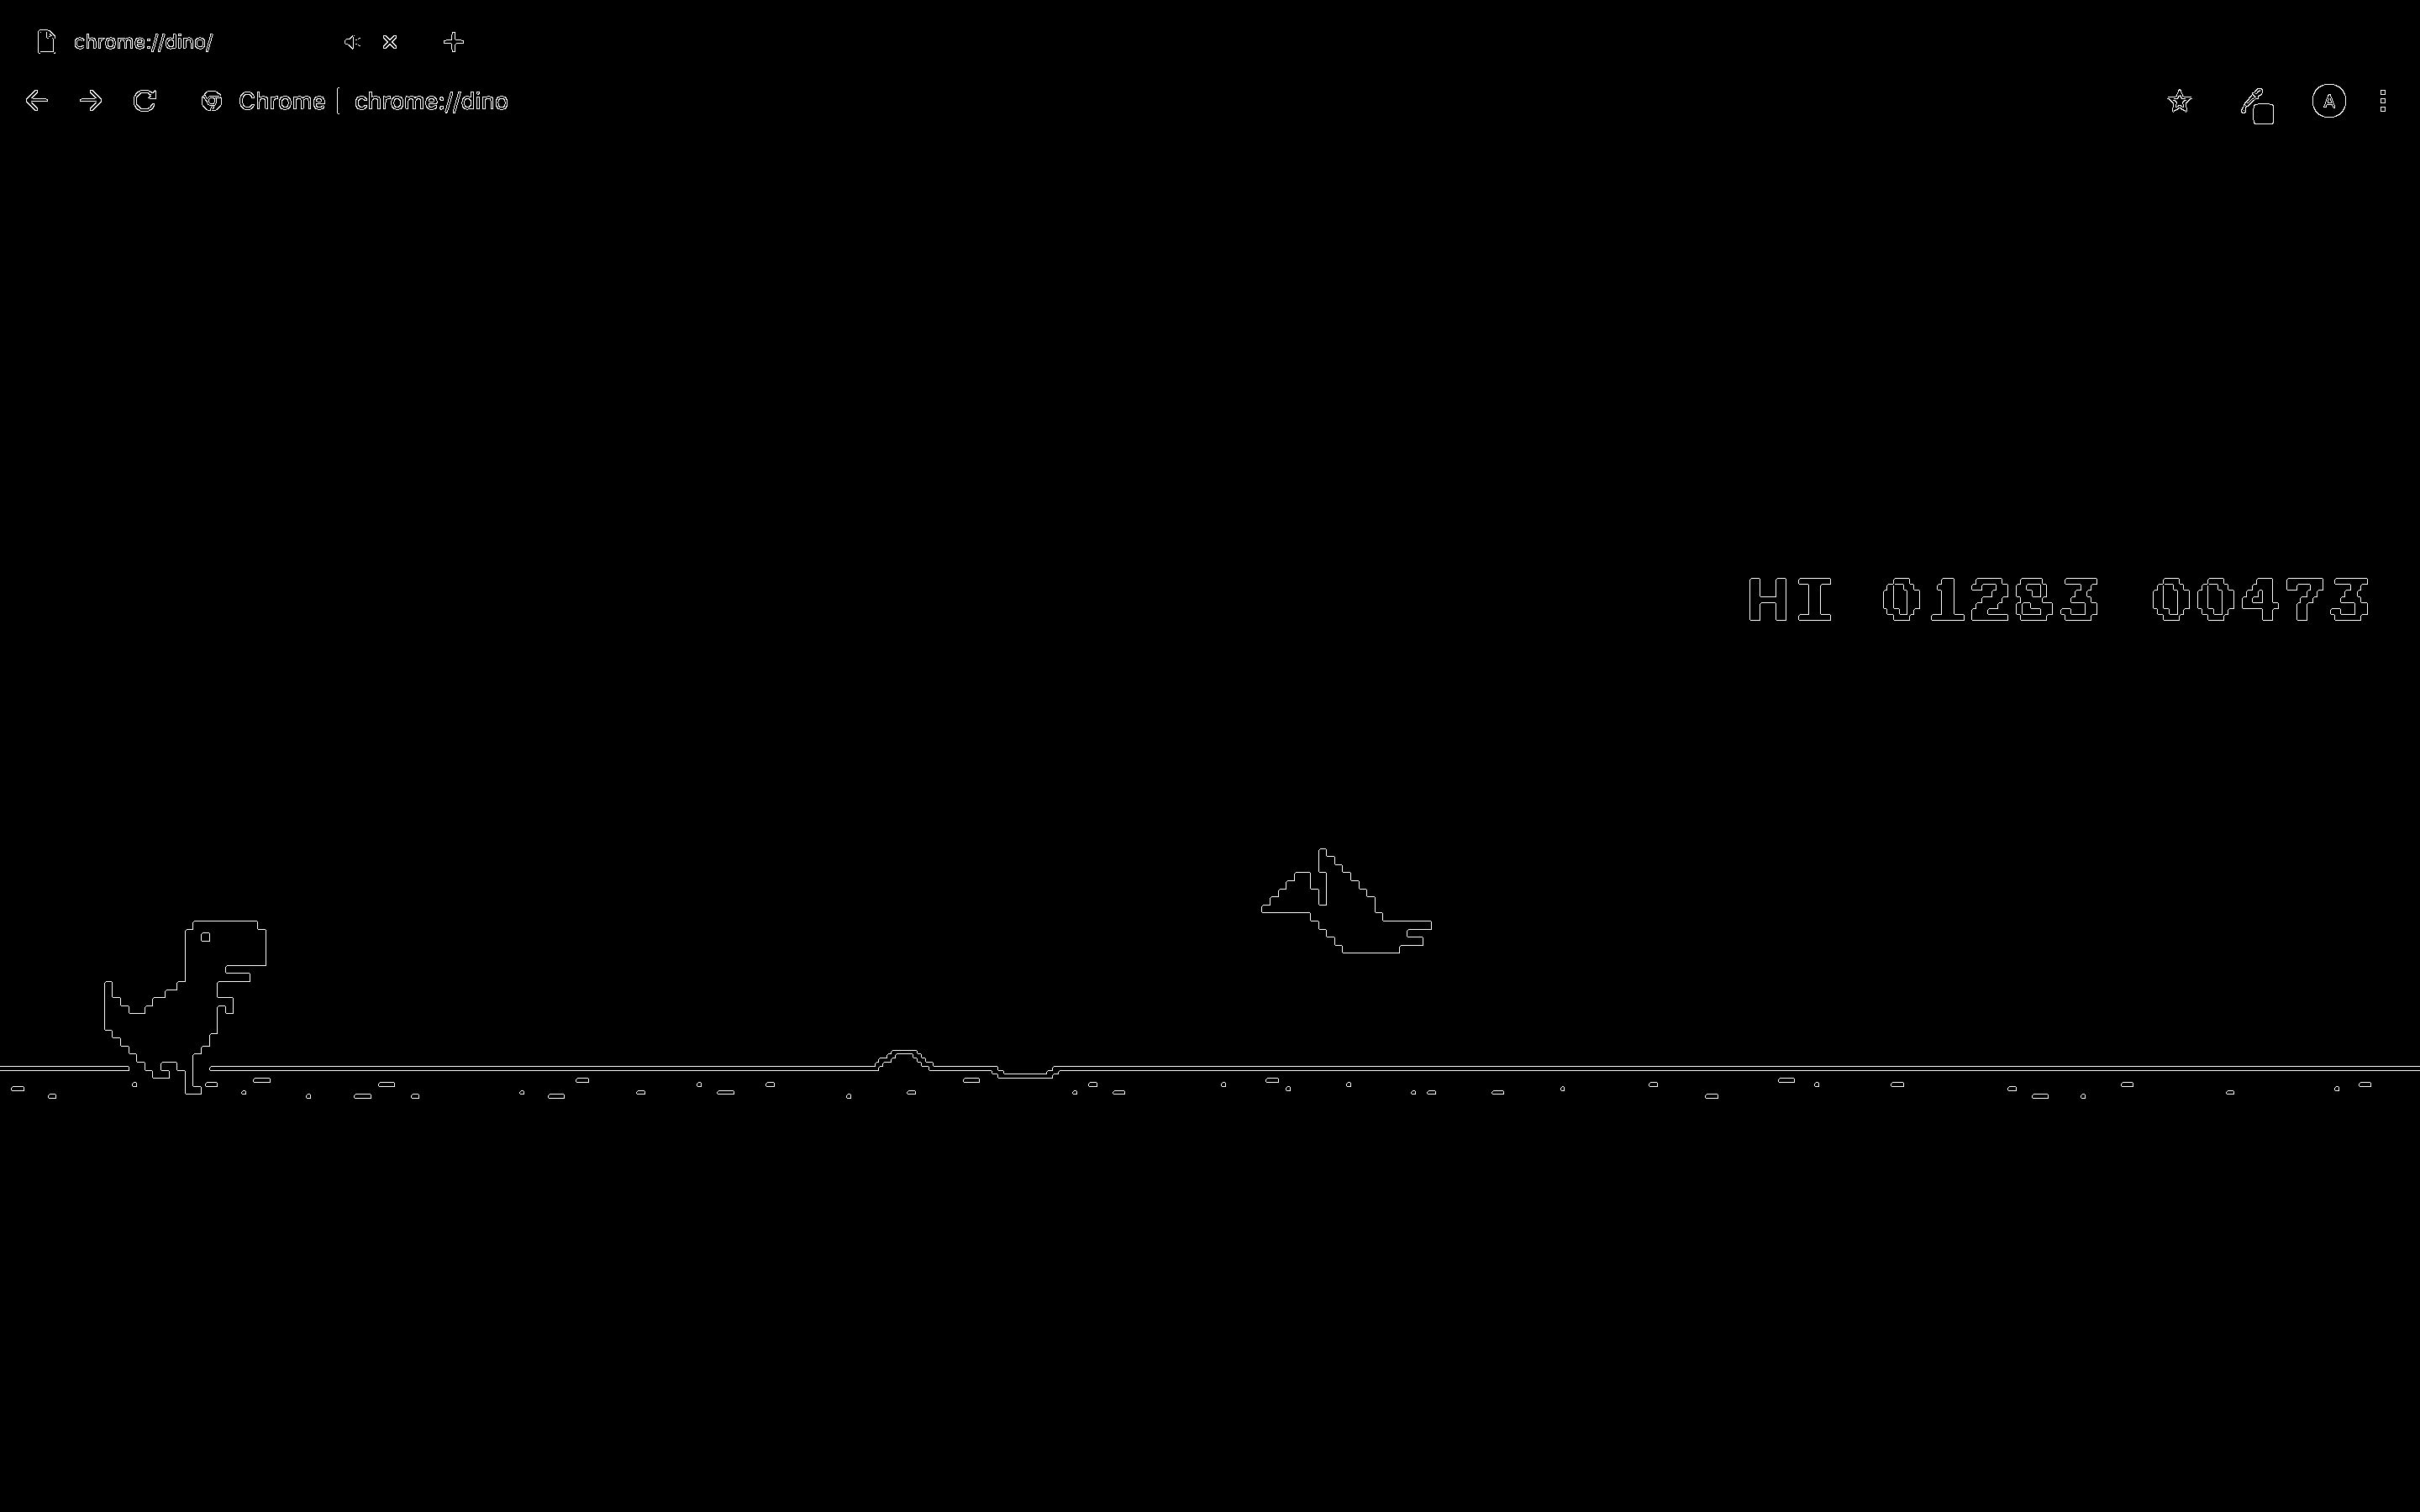Bird: (1256, 850, 1443, 963)
Dino: (108, 913, 272, 1092)
